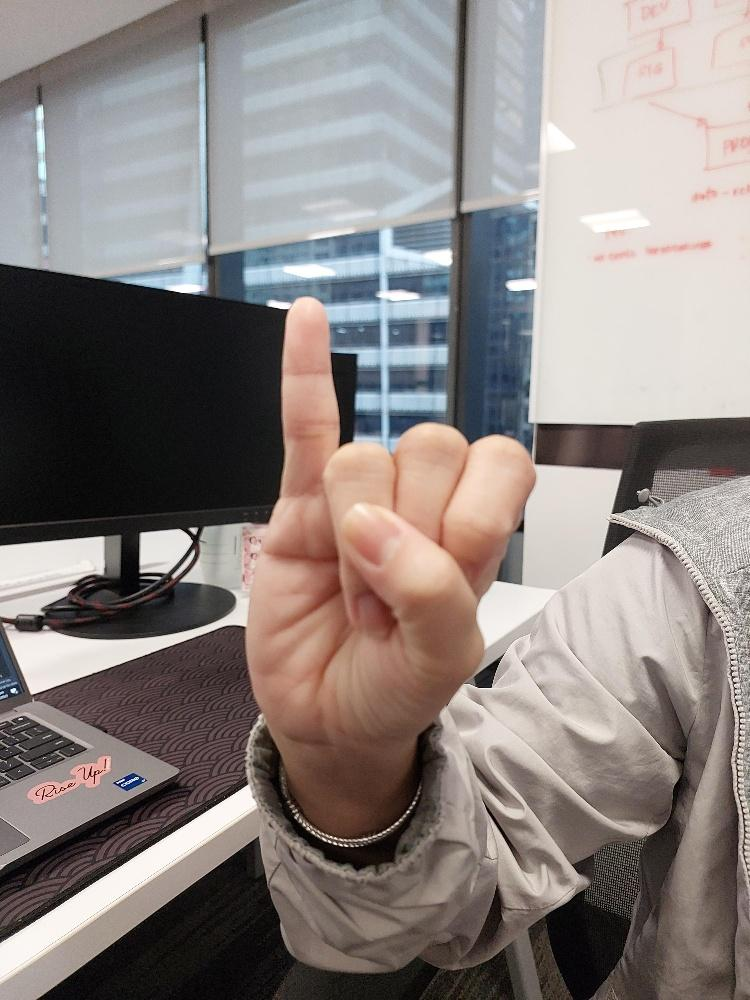i: (242, 295, 535, 738)
